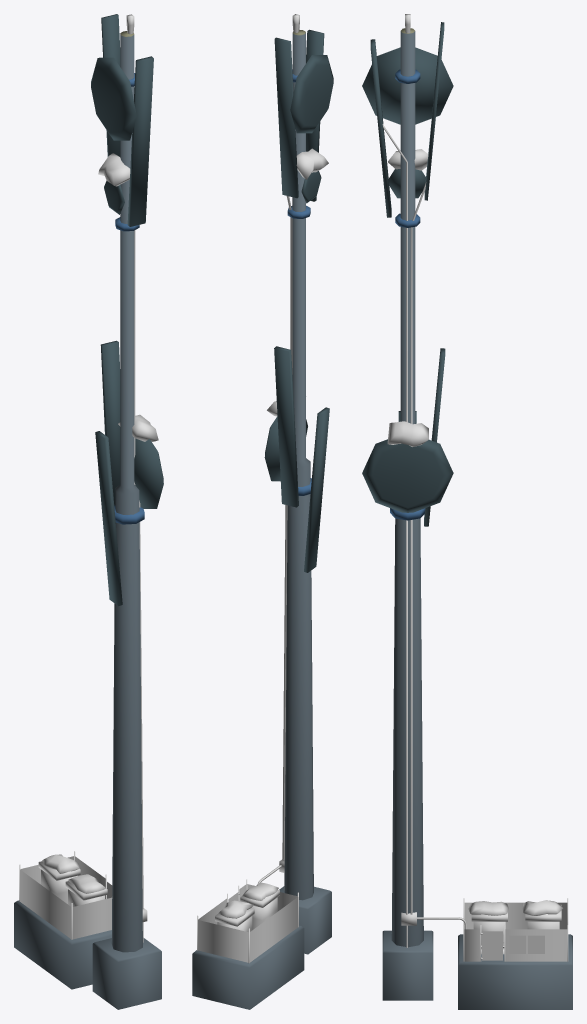
Rendered from stklib_blueRadioTower_a.glb.
The picture shows the model from 3 angles, left to right: view 1: azimuth 30°, elevation 25°; view 2: azimuth 150°, elevation 25°; view 3: azimuth 270°, elevation 25°; orthographic projection. The views are drawn at different scales.
Parts seen in each view (by area): view 1: stklib_blueRadioTower_a_main; view 2: stklib_blueRadioTower_a_main; view 3: stklib_blueRadioTower_a_main.
Part boxes in pixels (x1,y1,x2,y2): stklib_blueRadioTower_a_main: (14,14,163,1009); stklib_blueRadioTower_a_main: (192,14,333,1009); stklib_blueRadioTower_a_main: (362,14,572,1009).
Bounding box in the file's own units: 3.92 × 60.36 × 11.75.
